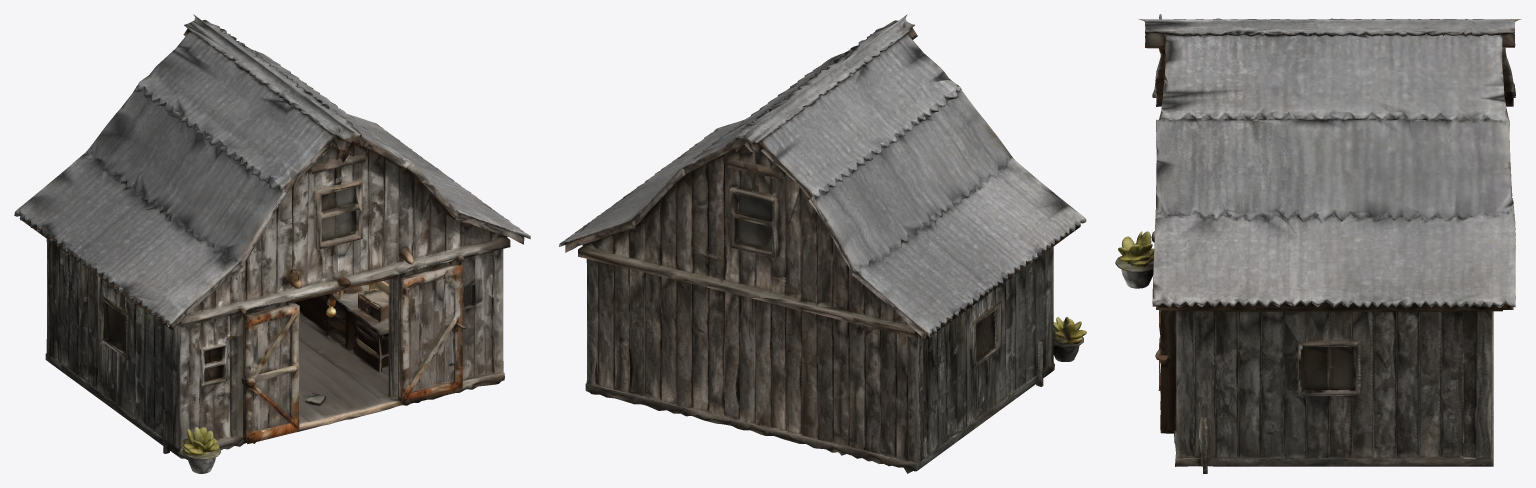
File: portal_10.glb
3 renders of one model, left to right at view 1: azimuth 30°, elevation 25°; view 2: azimuth 150°, elevation 25°; view 3: azimuth 270°, elevation 25°, orthographic. The views are drawn at different scales.
Size of the model in its own units: 1 by 0.7987 by 0.818.
Materials: 1 (1 with a texture image).
